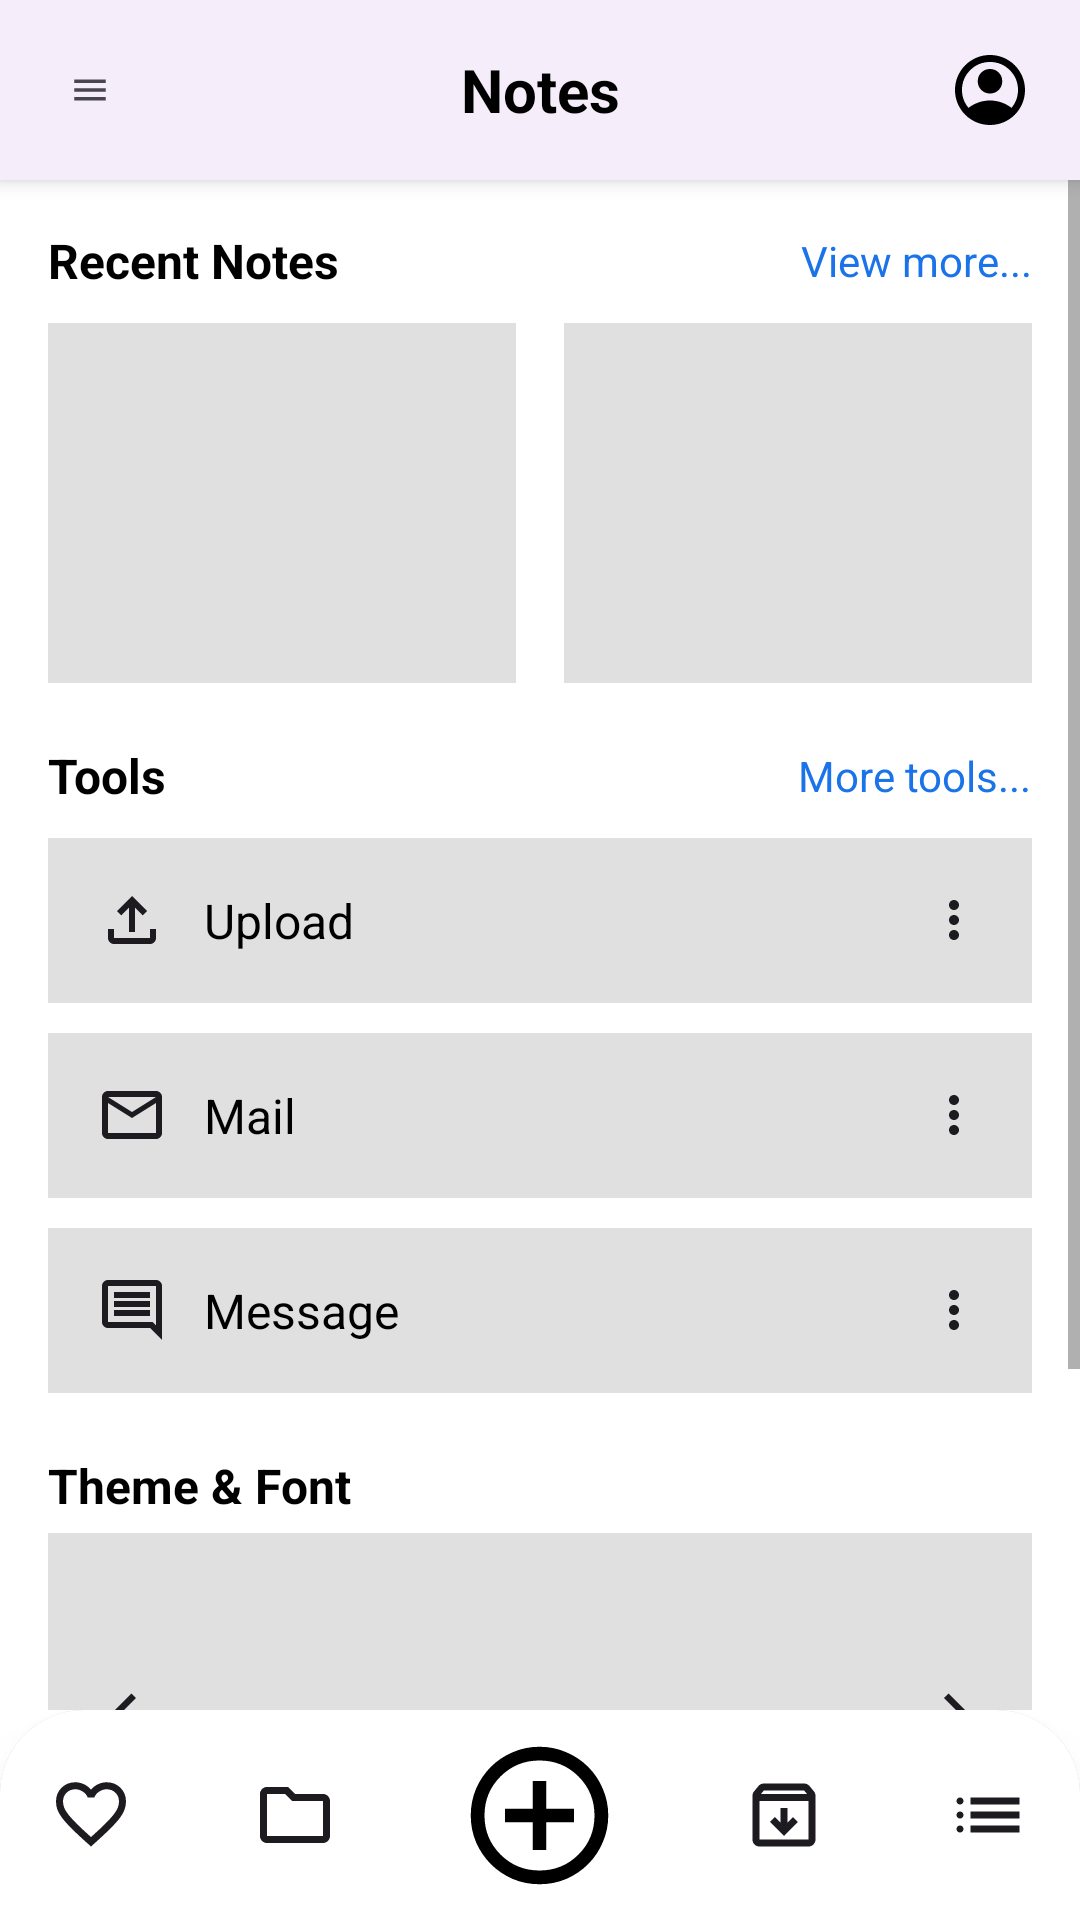

Named icons in this screenshot (1080x1920) and their centers, (x,y):
account circle: (990,90)
add circle: (539,1815)
archive: (784,1815)
comment: (132,1310)
favorite: (91,1814)
folder: (295,1815)
list: (988,1815)
more vert: (954,920), (954,1115), (954,1310)
